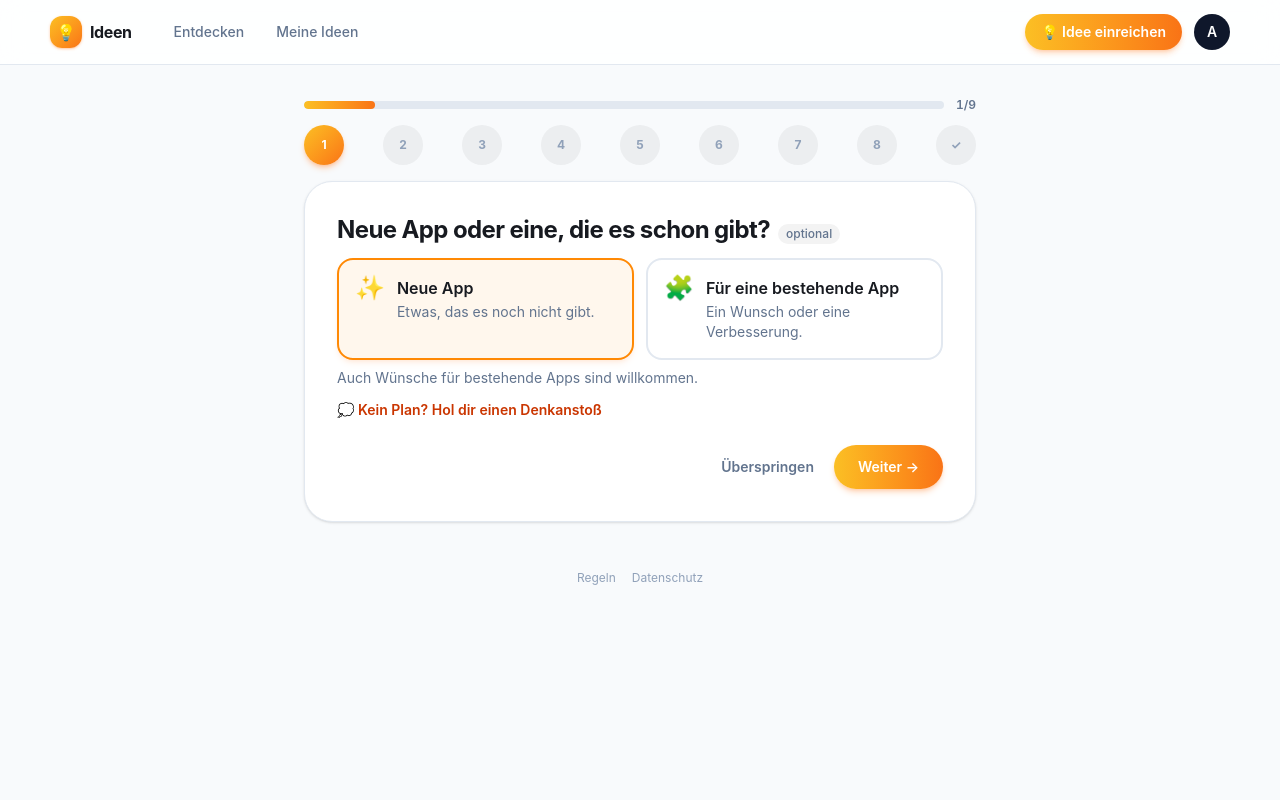
it: wizard › shows only the current question
Click the button "Weiter →" at (888, 467), box [834,445,943,489]
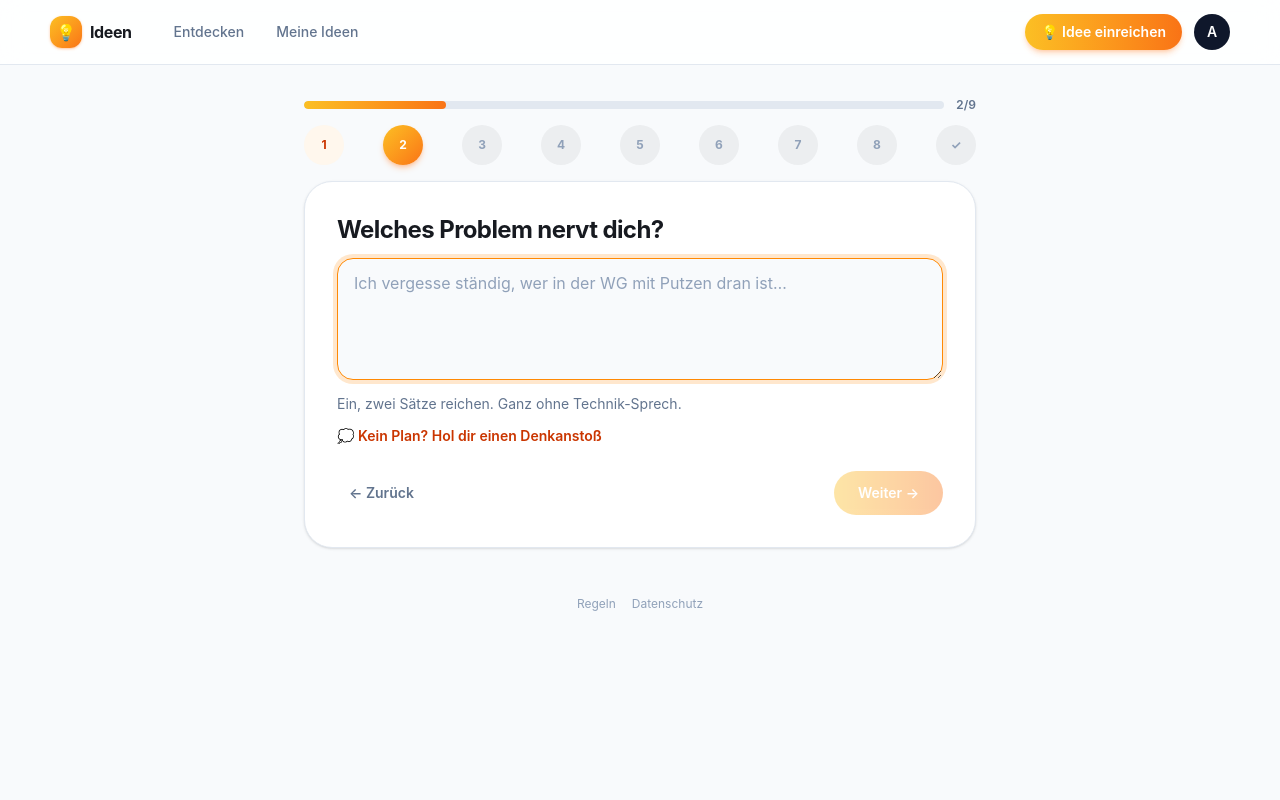
Type "Test" into the text box at (640, 319), box [337,258,943,380]
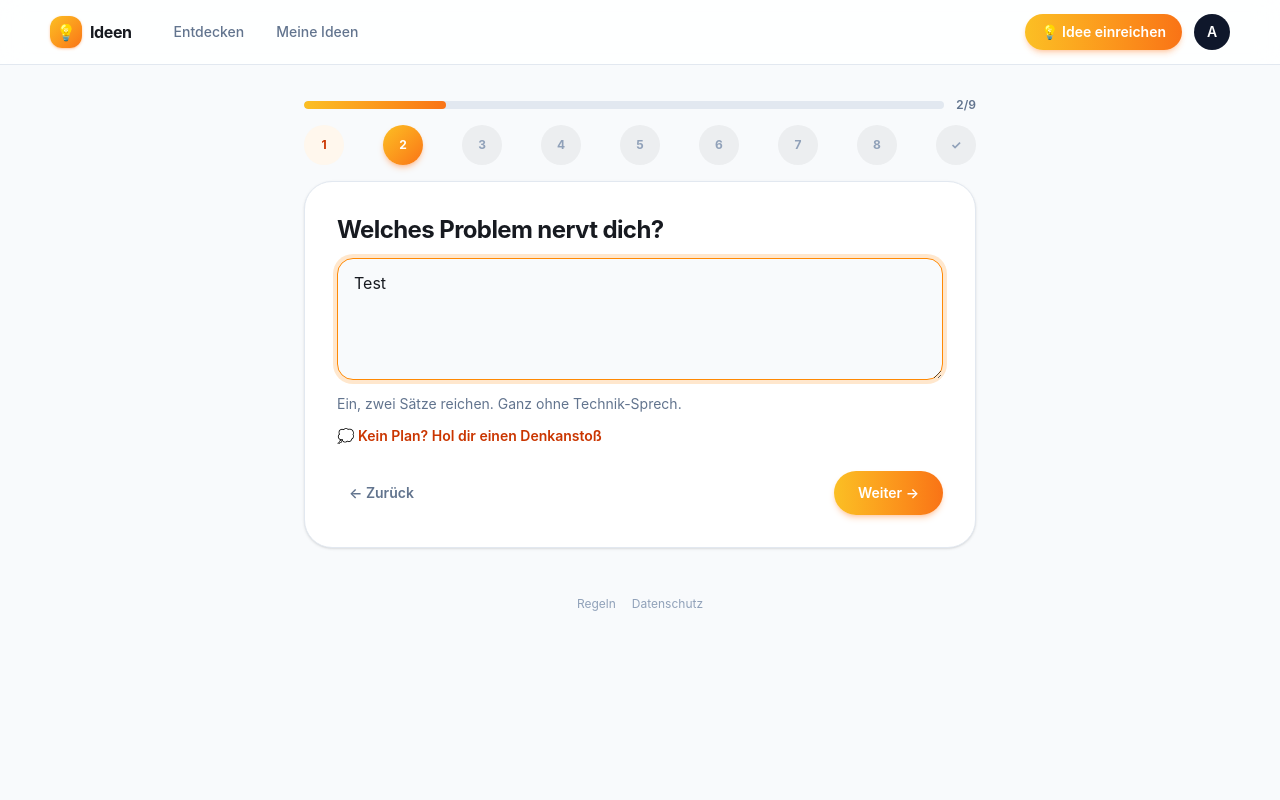
Click the button "Weiter →" at (888, 493), box [834,471,943,515]
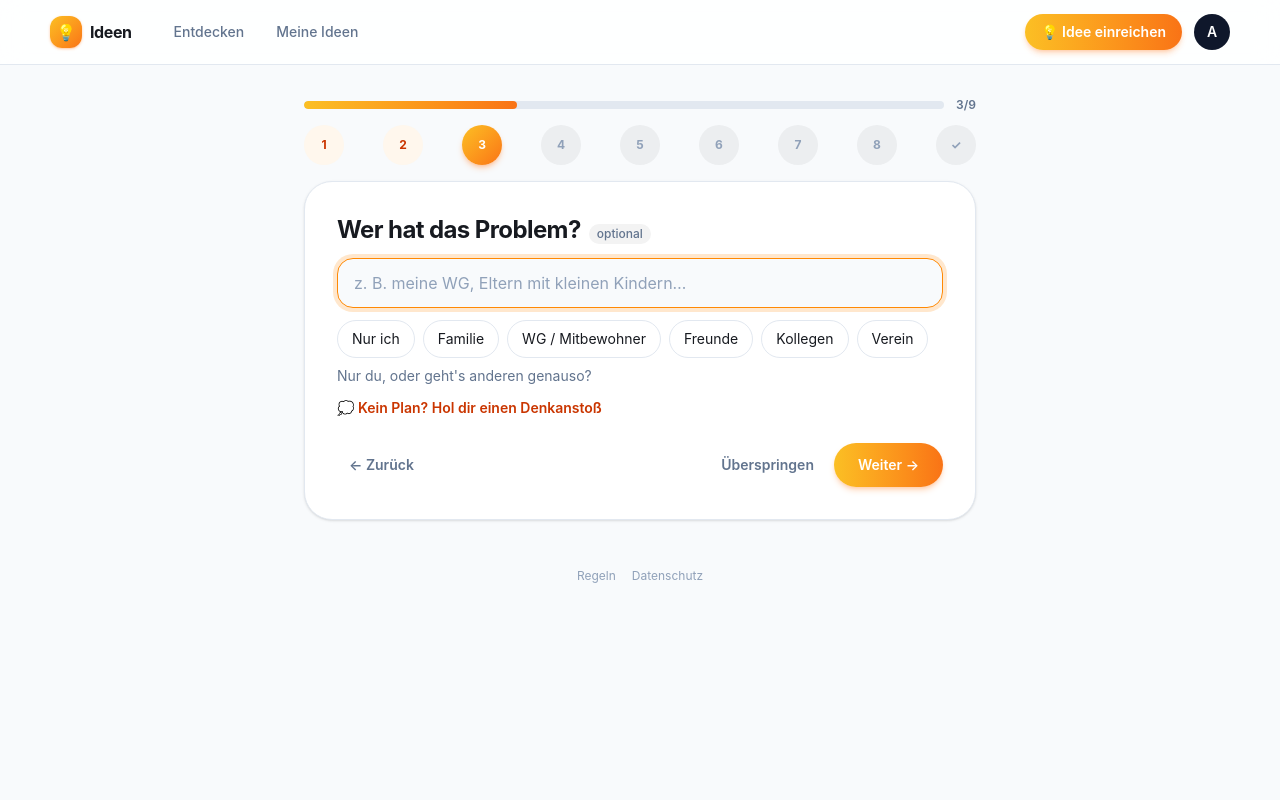
Type "Test2" into the field at (640, 283), box [337,258,943,308]
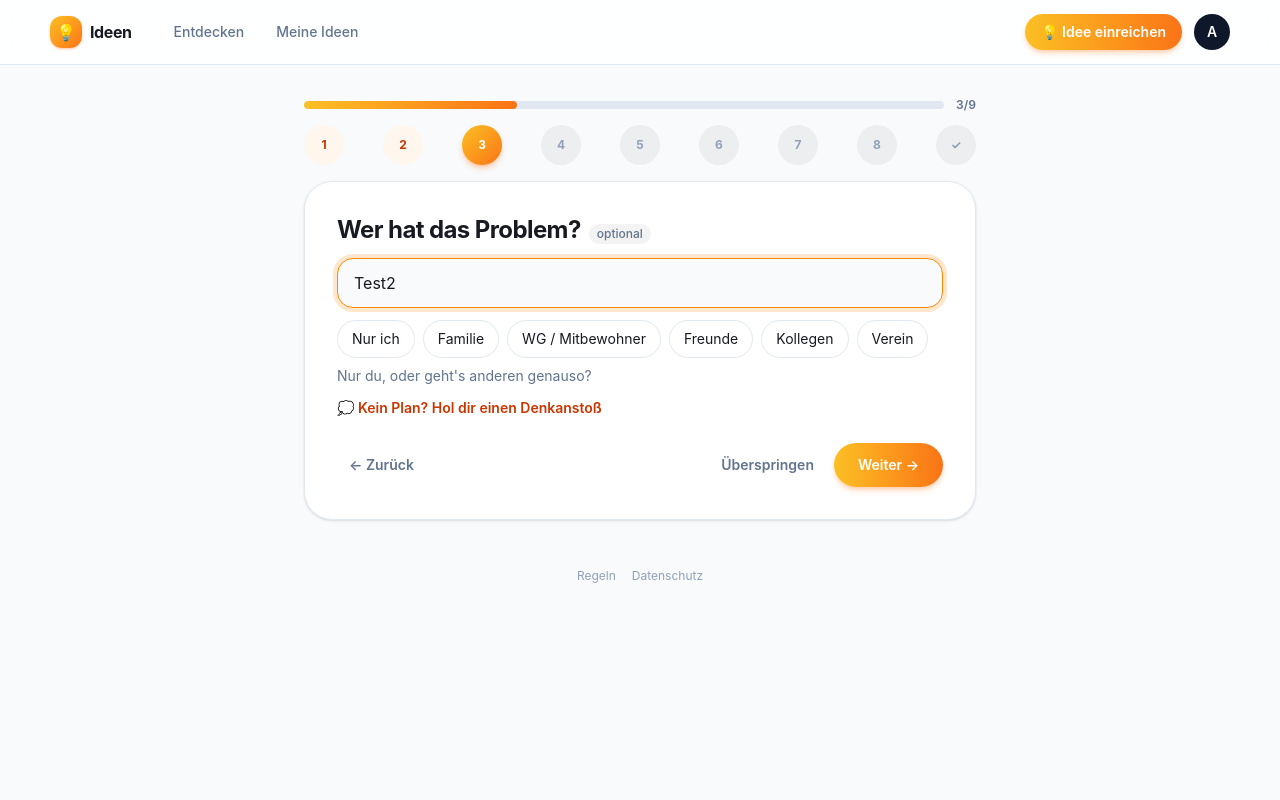
Click the button "Weiter →" at (888, 465), box [834,443,943,487]
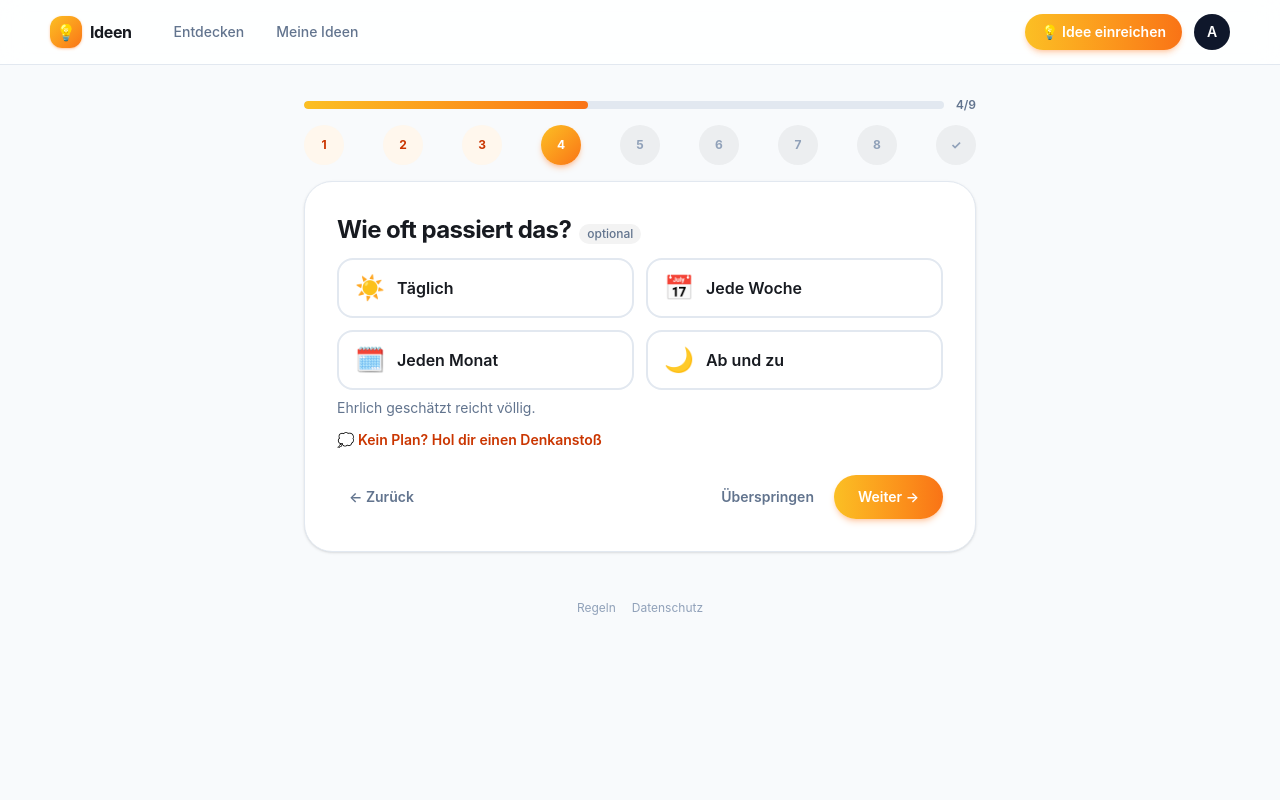
Expected: the heading "Neue App" is not shown
Now the heading shows "Wie oft", box [337,215,571,244]
Now no fields are shown
